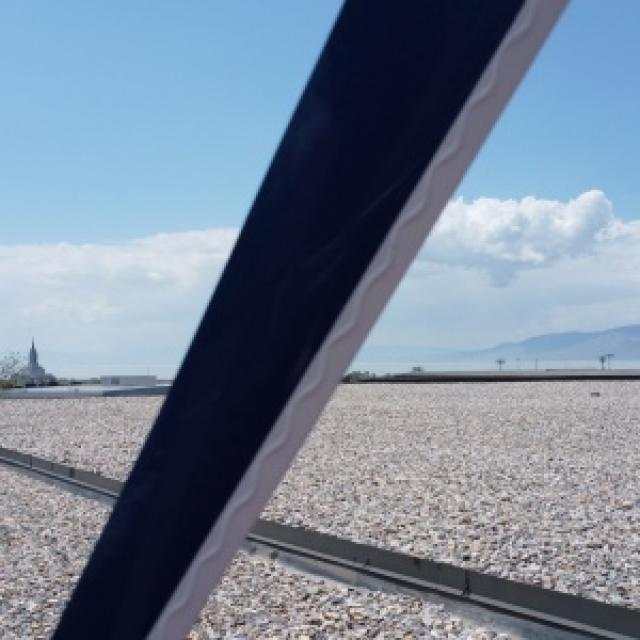healthy: (51, 0, 561, 638)
